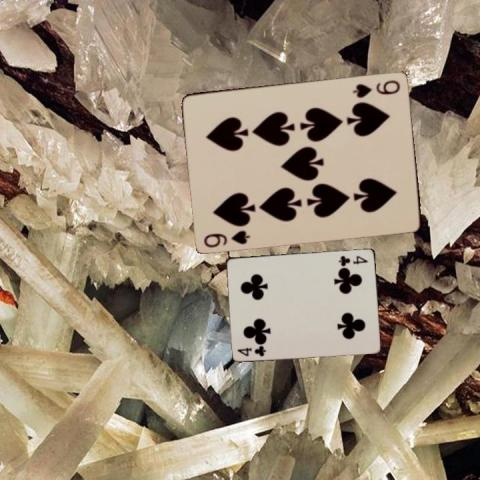4c: (235, 343, 267, 357), (336, 253, 369, 266)
9s: (350, 77, 401, 99), (201, 227, 252, 248)
